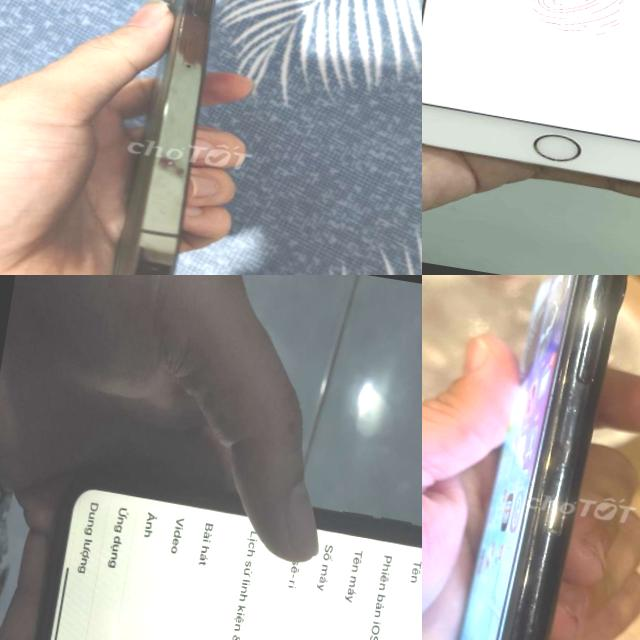gen_11: (457, 275, 627, 640)
gen_12_13: (101, 0, 282, 275)
gen_6: (422, 0, 640, 181)
gen_x_xs: (0, 457, 422, 640)
scratch: (510, 453, 595, 640), (542, 375, 601, 455), (578, 275, 636, 308), (596, 311, 620, 337)
